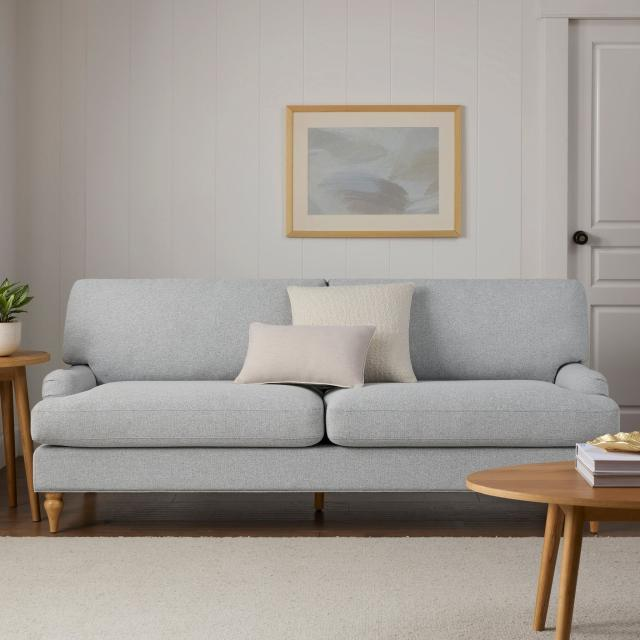sofa: (30, 276, 621, 534)
